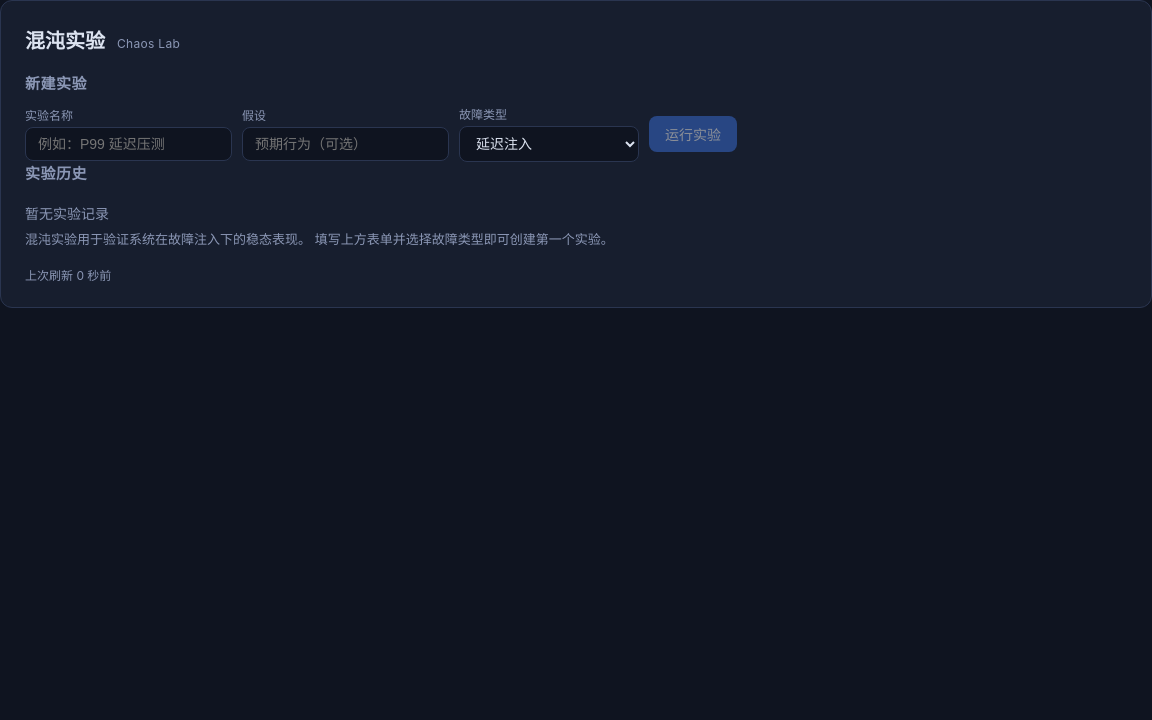
Scenario: Chaos Lab 加固 › 确认后提交 POST，成功展示「已提交」横幅
Type "延迟实验" into the field labelled "实验名称".
click(128, 144); type("延迟实验")  # box [25, 127, 232, 161]
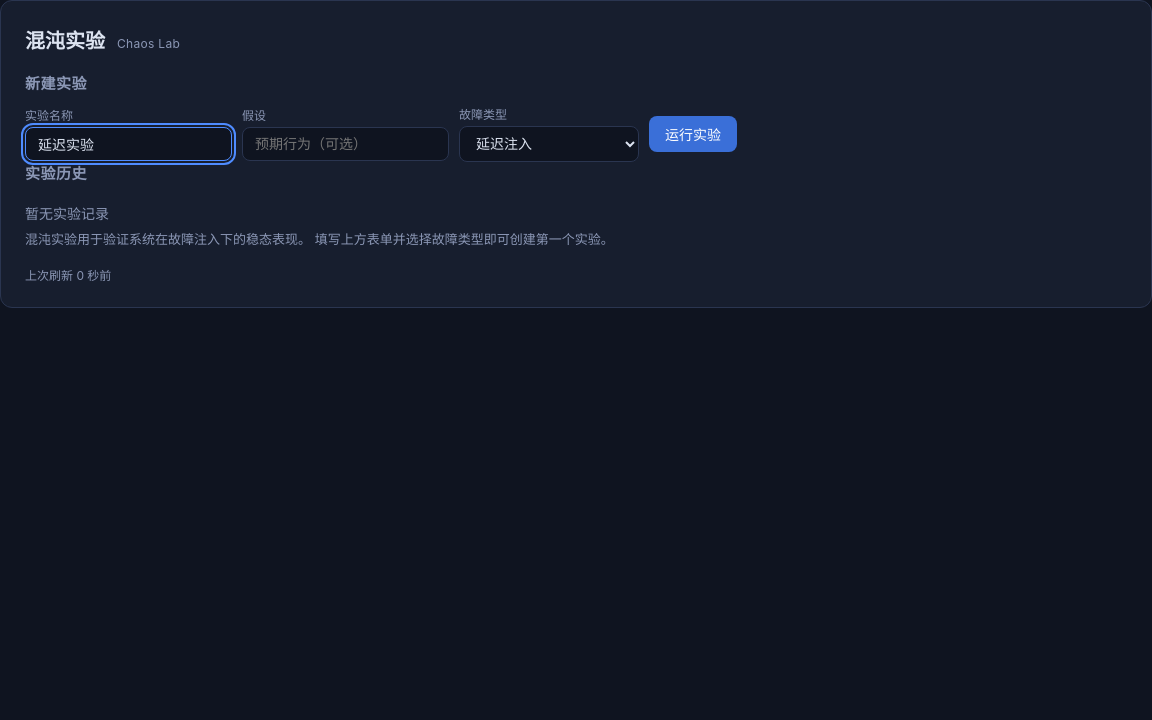
Click the button "运行实验".
click(693, 134)  # box [649, 116, 737, 152]
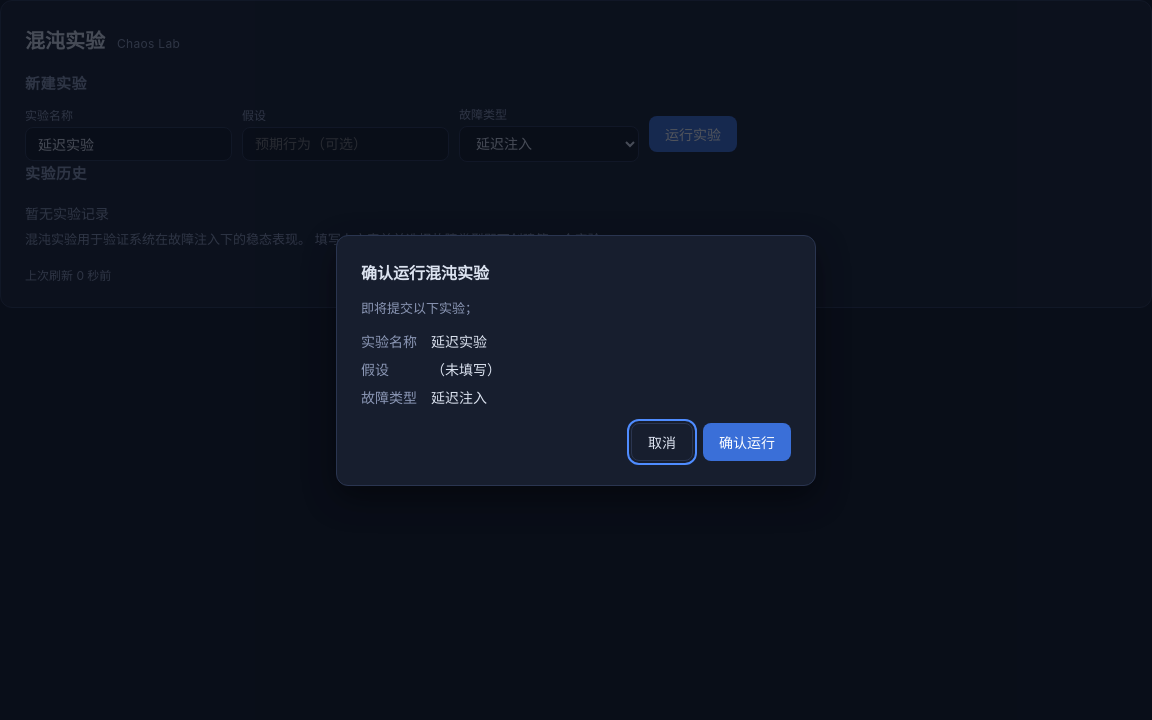
Click the button "确认运行".
click(747, 442)  # box [703, 422, 791, 460]
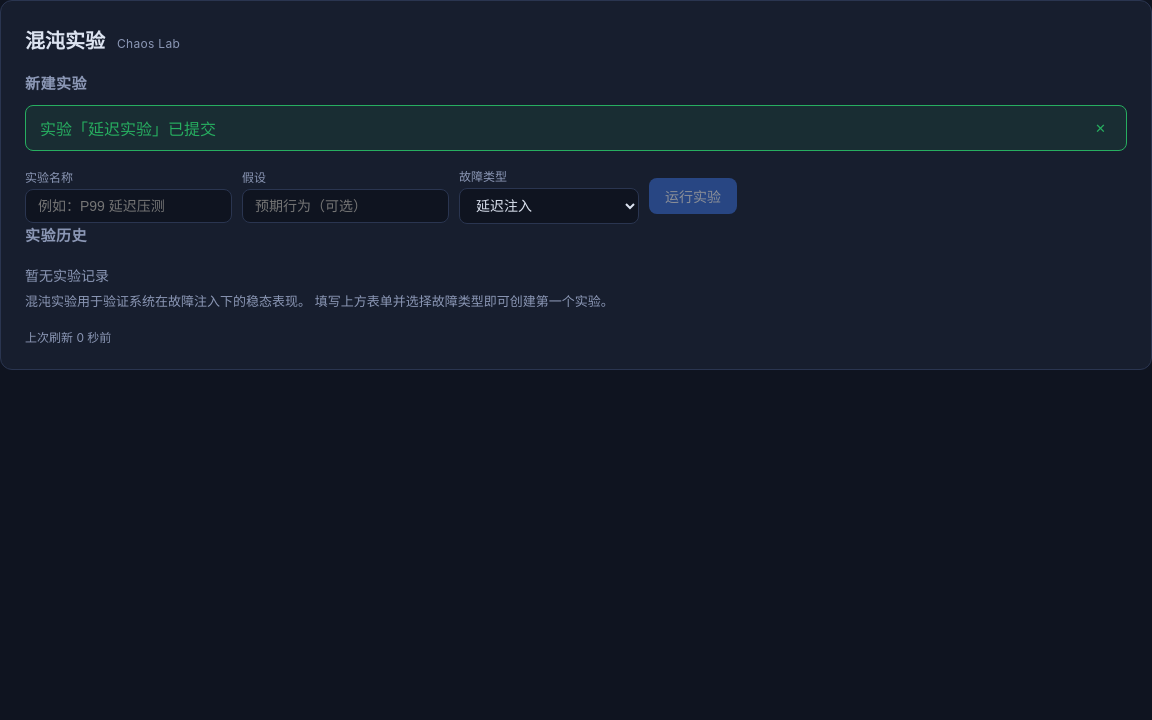
Expected: the text "实验「延迟实验」已提交" is shown, [40, 116, 216, 140]
